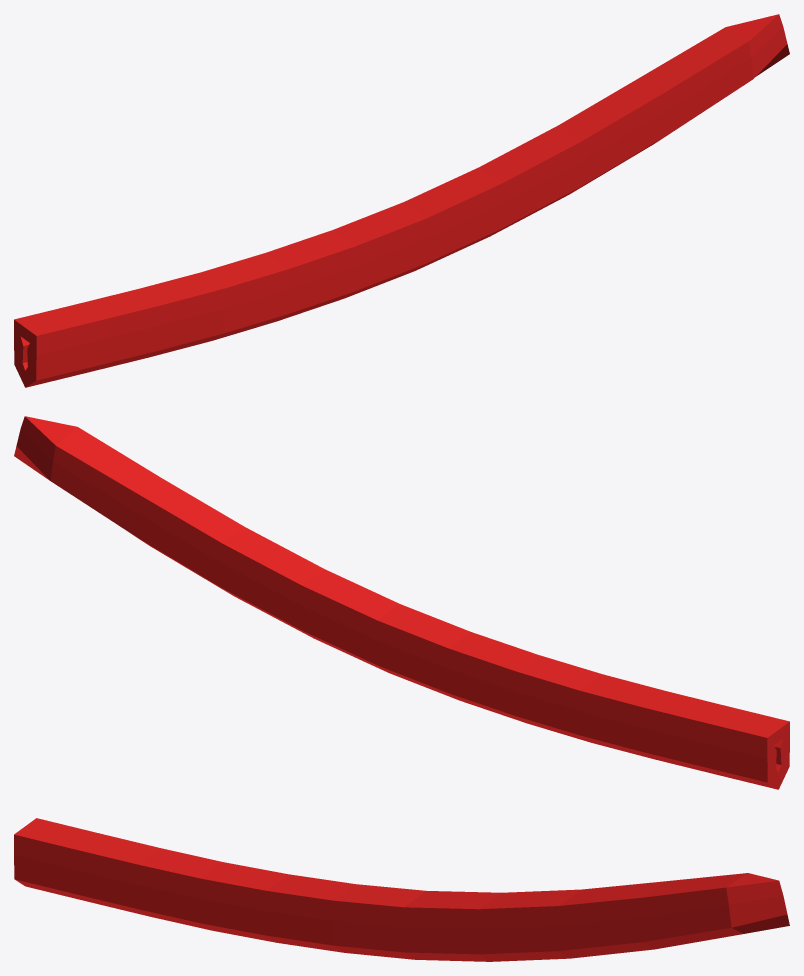
The model's file is Bainha.fbx.
The picture shows the model from 3 angles, top to bottom: view 1: azimuth 30°, elevation 25°; view 2: azimuth 150°, elevation 25°; view 3: azimuth 330°, elevation 25°; orthographic projection.
Visible parts, largest first — view 1: BainhaVermelha; view 2: BainhaVermelha; view 3: BainhaVermelha.
Part boxes in pixels (bbox=[...]): BainhaVermelha: bbox=[14, 14, 789, 387]; BainhaVermelha: bbox=[14, 416, 789, 789]; BainhaVermelha: bbox=[14, 818, 789, 961].
Bounding box in the file's own units: 1230 × 292 × 62.87.
